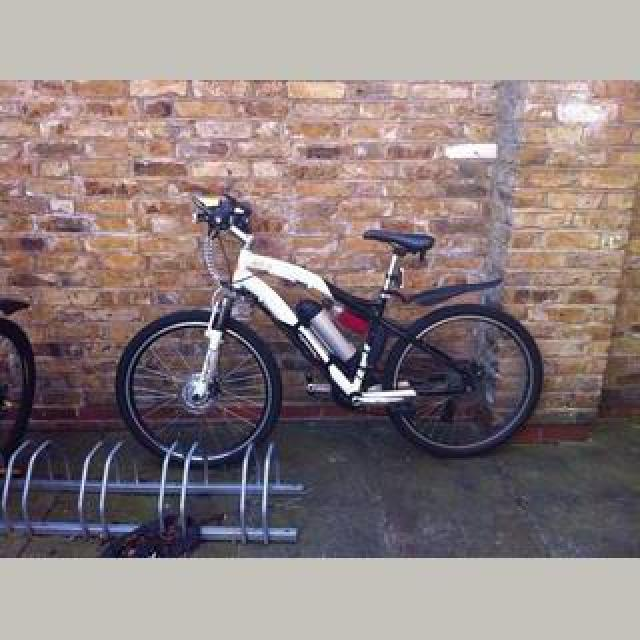Person: (112, 188, 550, 470)
